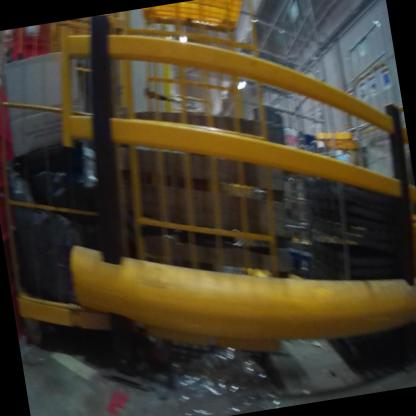small_load_carrier: (8, 23, 57, 72), (0, 176, 30, 244), (0, 122, 22, 198), (0, 68, 20, 145)
